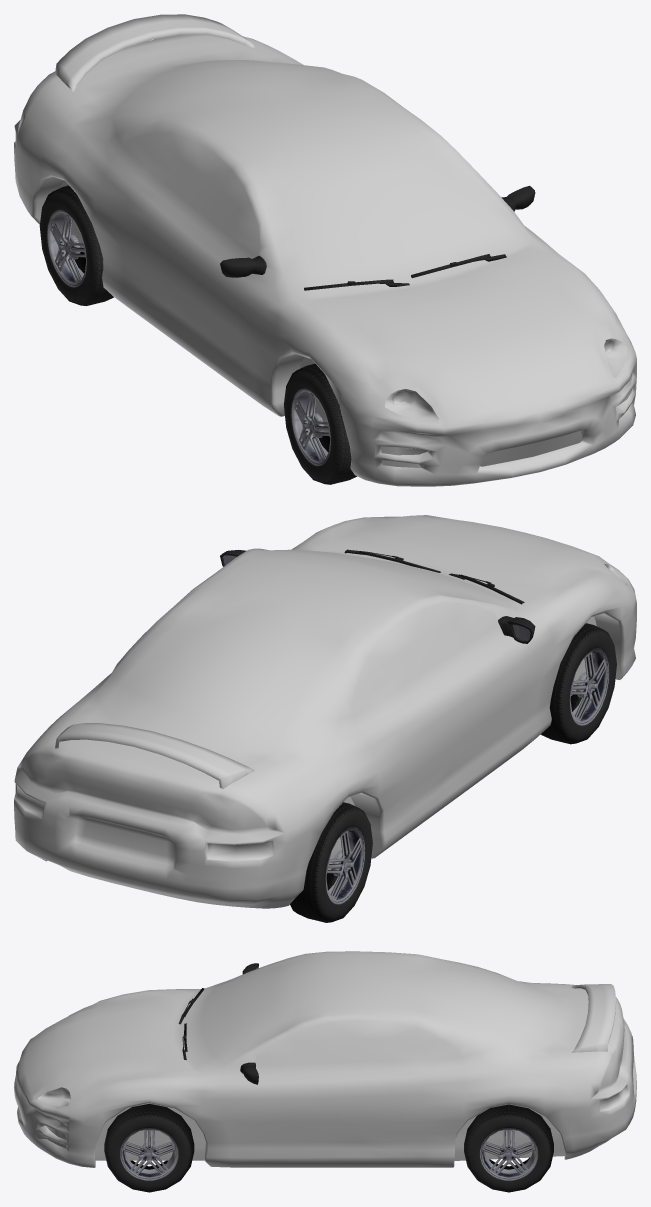
Rendered from Eclipse.dae.
The picture shows the model from 3 angles, top to bottom: view 1: azimuth 30°, elevation 25°; view 2: azimuth 150°, elevation 25°; view 3: azimuth 270°, elevation 25°; orthographic projection. The views are drawn at different scales.
Visible parts, largest first — view 1: _003eclipse, wheels_n_acc; view 2: _003eclipse, wheels_n_acc; view 3: _003eclipse, wheels_n_acc.
Part boxes in pixels (x1,y1,x2,y2): _003eclipse: [14, 14, 636, 486]; wheels_n_acc: [39, 185, 535, 484]; _003eclipse: [14, 515, 636, 908]; wheels_n_acc: [220, 549, 616, 922]; _003eclipse: [14, 951, 636, 1167]; wheels_n_acc: [104, 963, 553, 1192].
Bounding box in the file's own units: 29.8 × 69.92 × 20.67.
